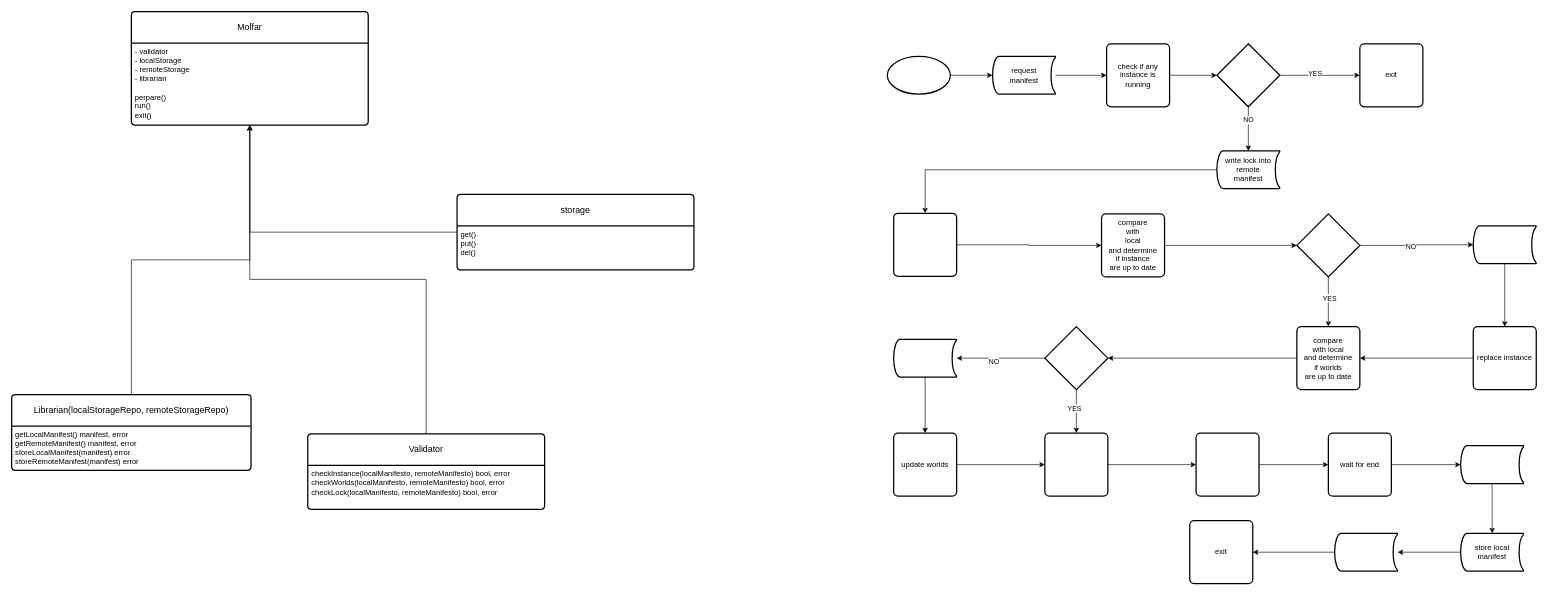
The diagram is 1547 pixels wide and 595 high, and some of its shapes have lost their labels. Here are the shapes that lost their labels. From the top down, the centre of each, then its label:
pixel 918 74: start
pixel 925 244: read local manifest
pixel 1504 244: get instance
pixel 925 357: get worlds
pixel 1076 464: write current local metadata
pixel 1227 464: run java
pixel 1492 464: write worlds
pixel 1366 551: write manifest update & unlock
